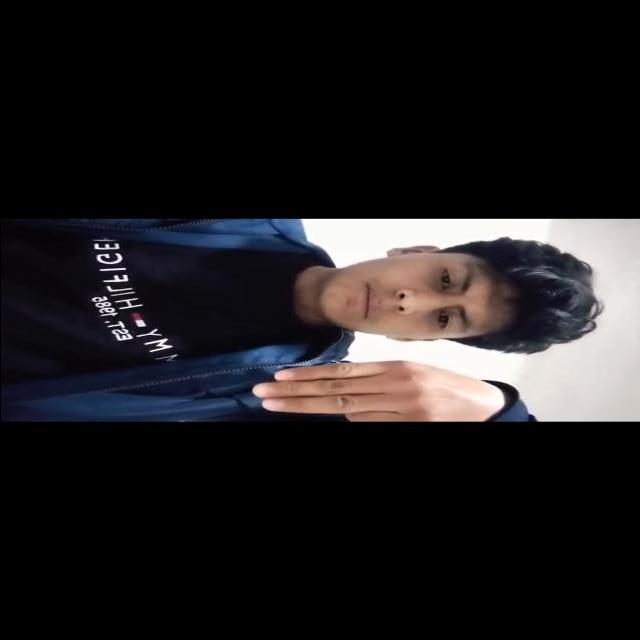M: (252, 352, 516, 423)
